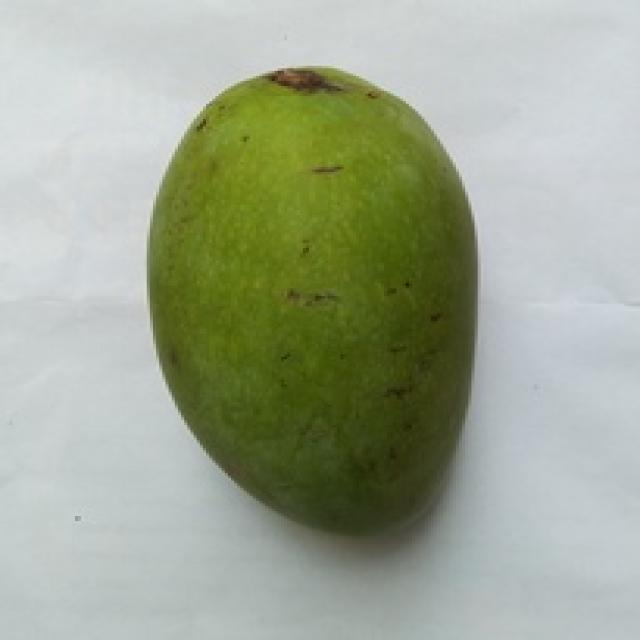Mango: (150, 68, 471, 531)
